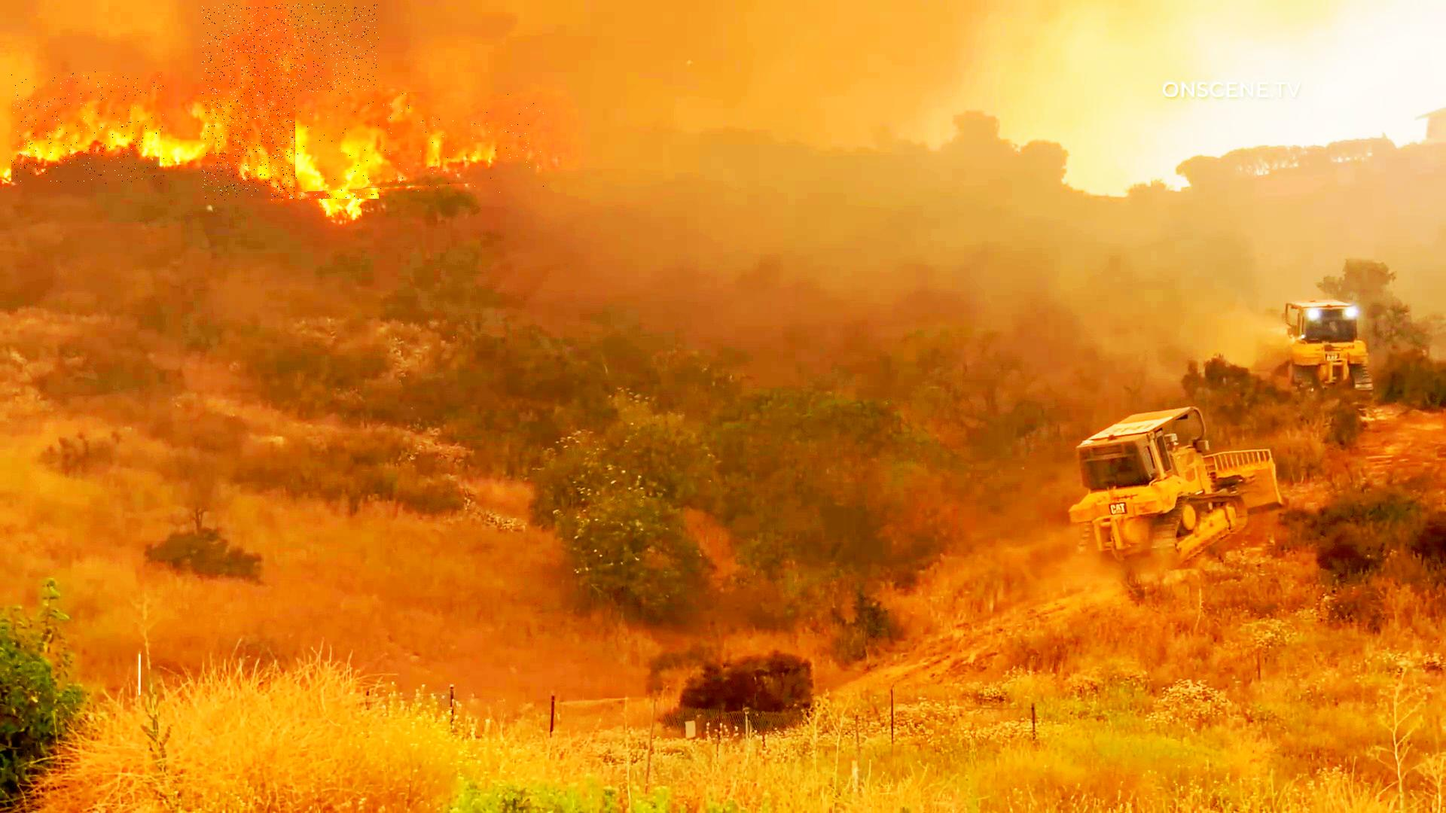fire: (202, 4, 379, 201), (296, 92, 547, 195), (12, 72, 165, 184)
